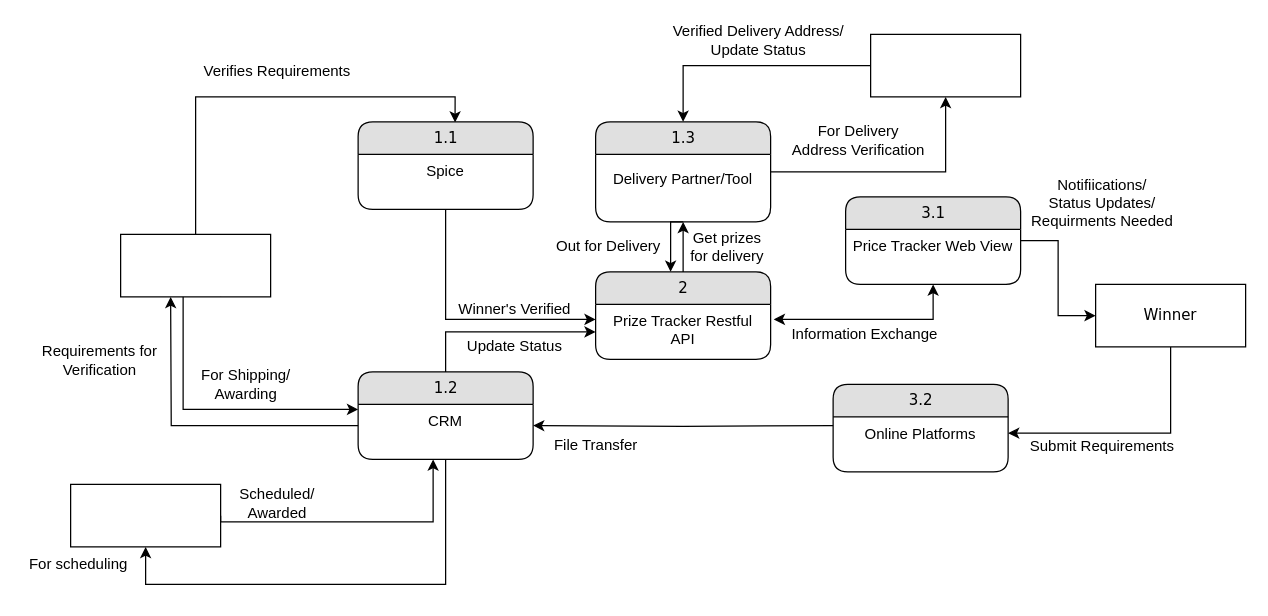
The diagram is 1268 pixels wide and 616 high, and some of its shapes have lost their labels. Here are the shapes that lost their labels. From the top down, the box of each, then its label:
(869, 33, 1021, 97): GVE/Sage
(119, 233, 271, 297): Agent
(69, 483, 221, 547): Sales Team
